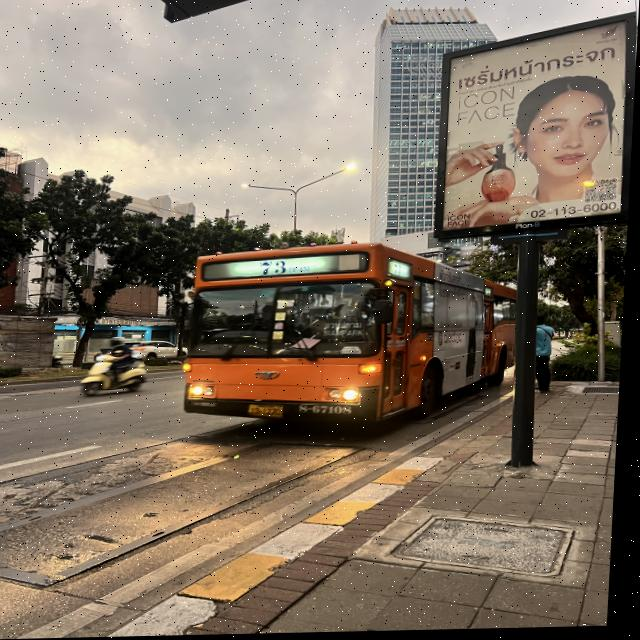BMTA-bus: (181, 242, 525, 439)
Bus-Line-Number: (259, 260, 318, 280)
Destination-Sign-Normal: (324, 320, 371, 344)
